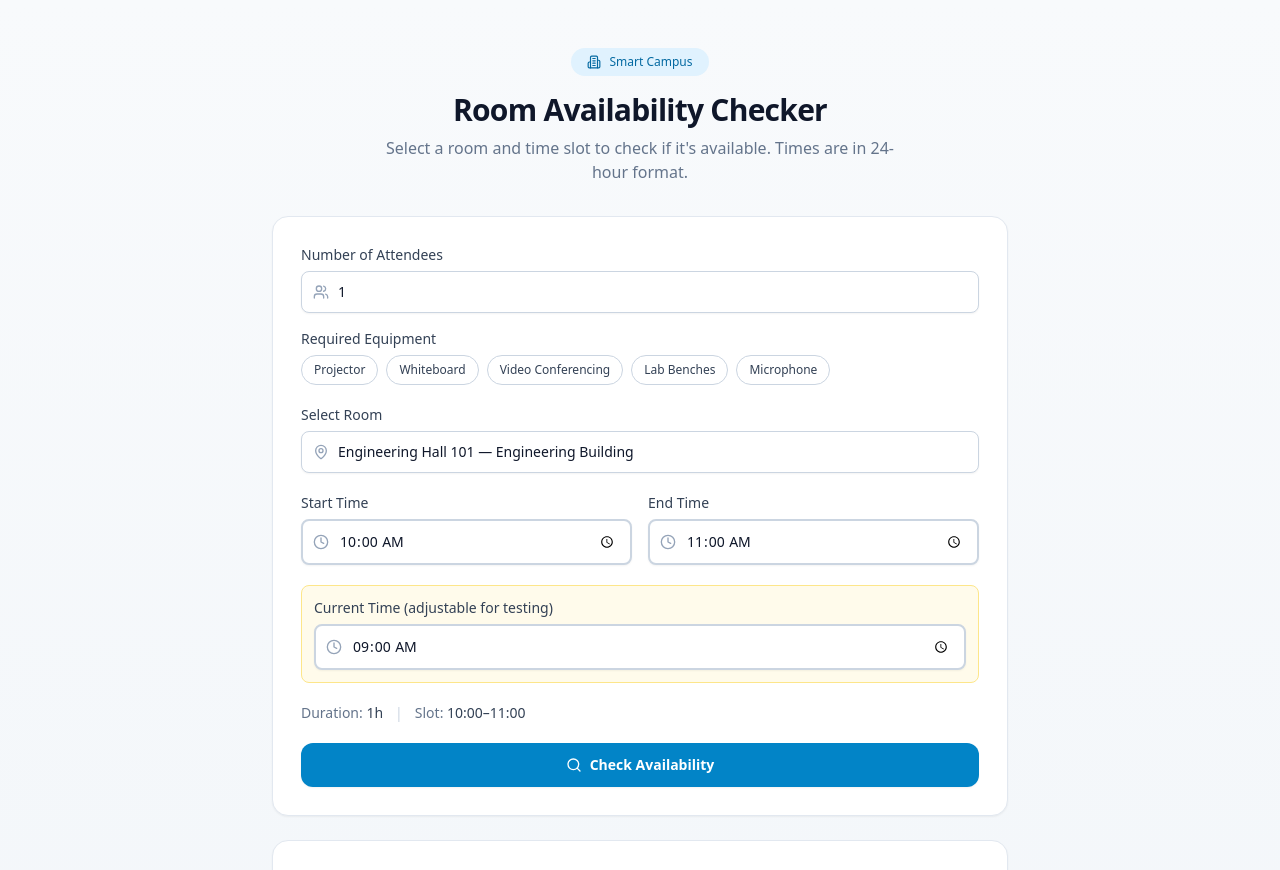
Scenario: AI explanation UI › renders an AI-generated explanation labeled correctly after clicking Explain
This screenshot has width=1280, height=870.
Click the button "Check Availability".
click(640, 765)  # box [301, 743, 979, 787]
(page scrolled)
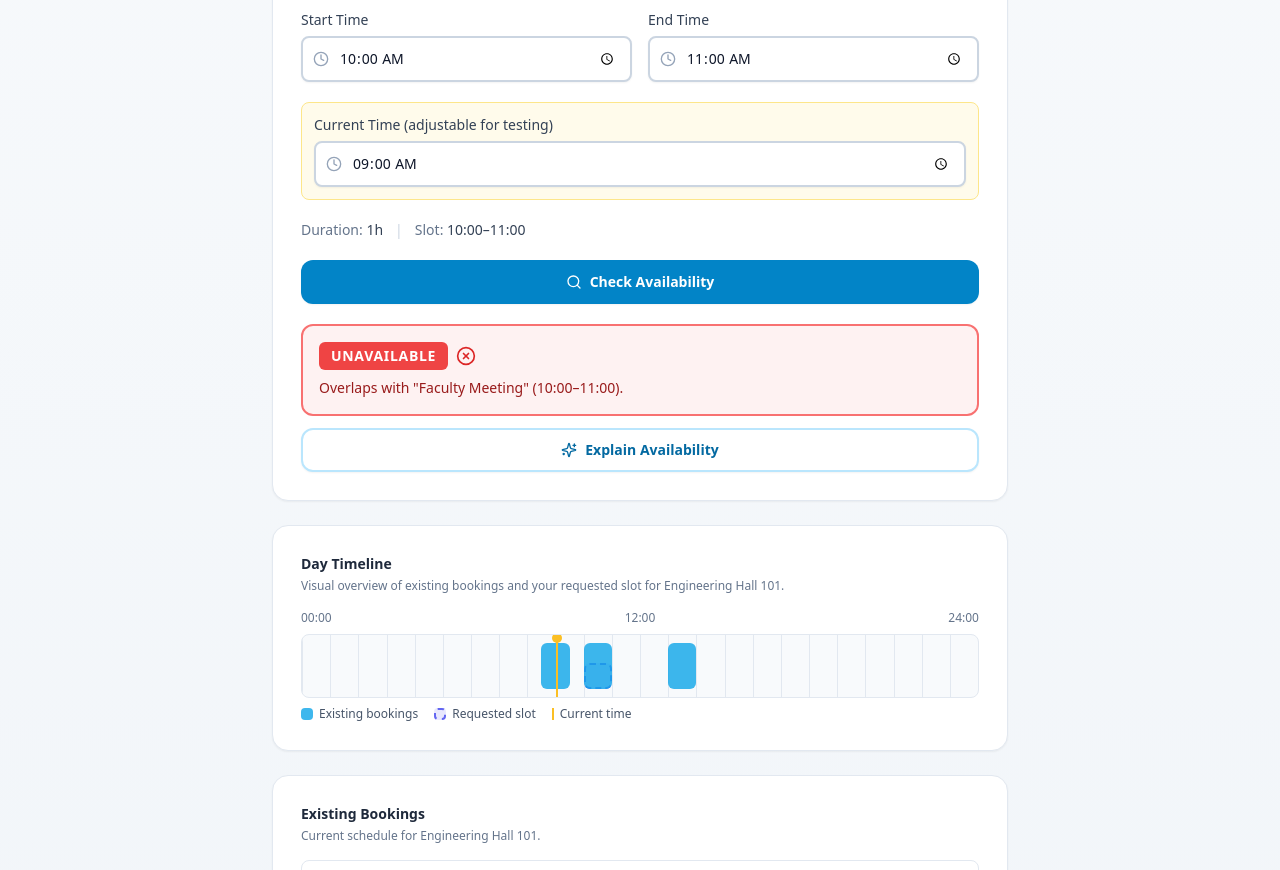
Click the button "Explain Availability".
click(640, 450)  # box [301, 428, 979, 472]
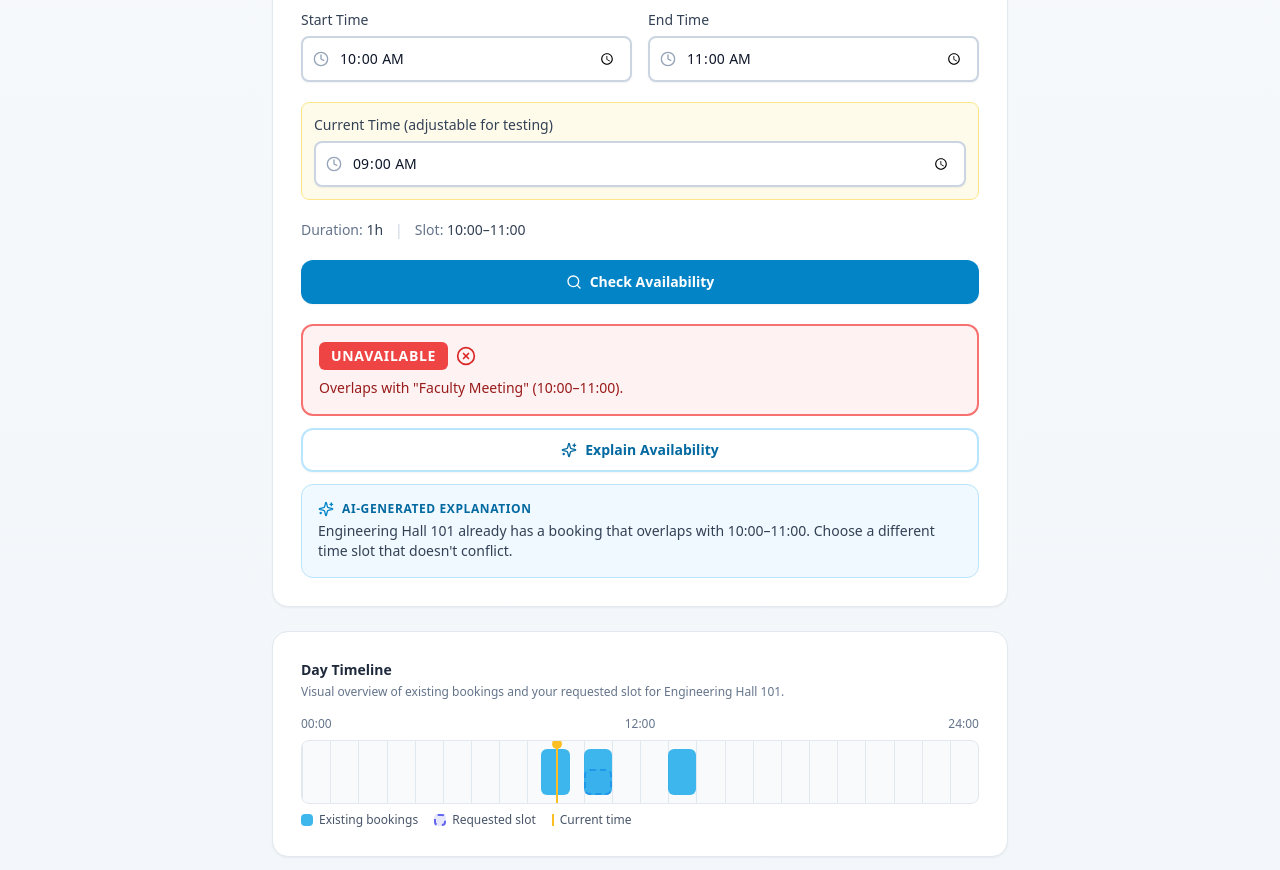
Expected: the text "AI-generated explanation" is shown, [342, 501, 532, 517]
